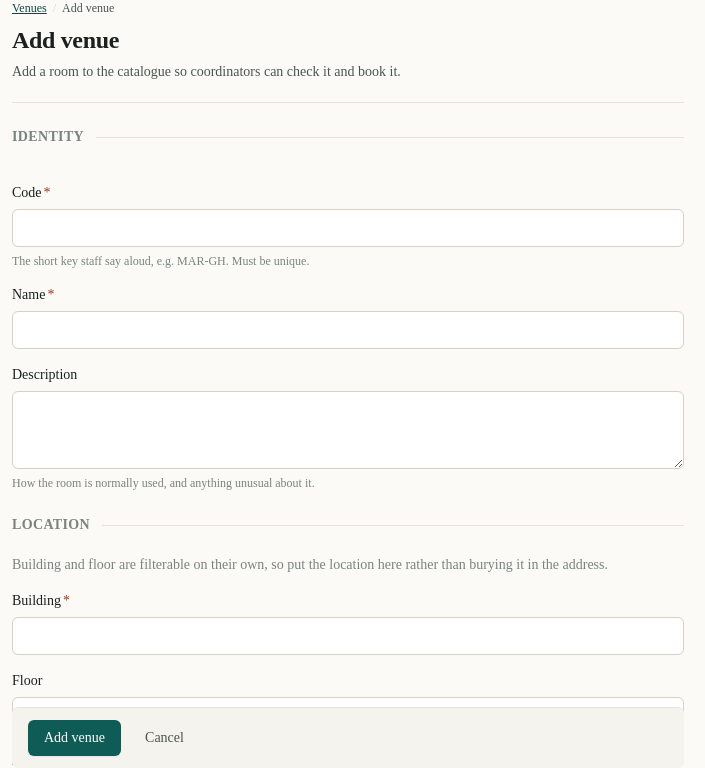
Scenario: Add venue › what it refuses before sending › [SPM-39][AC1] a fractional capacity
Type "HALL-A" into the field labelled "Code*" at (348, 228), box [12,209,684,247]
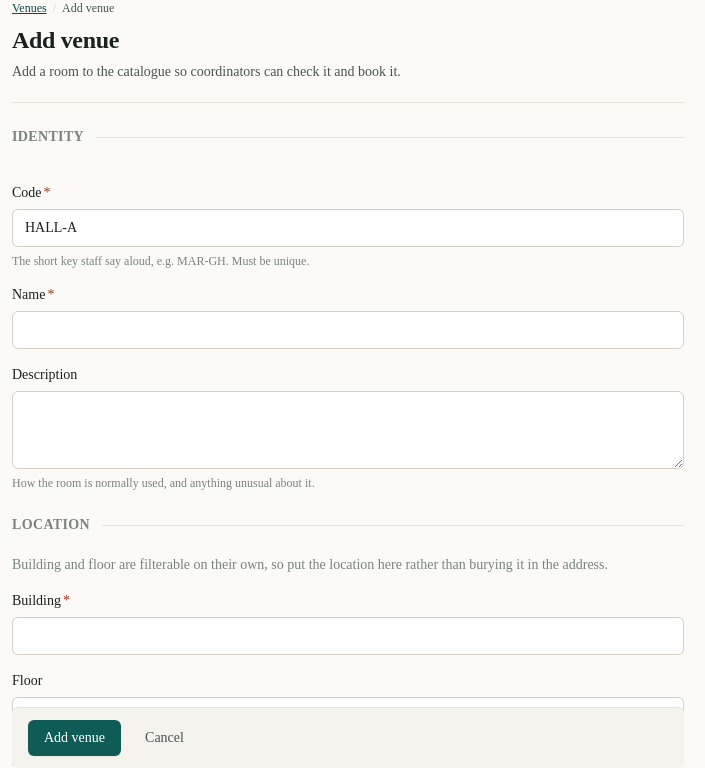
Type "Hall A" into the field labelled "Name*" at (348, 330), box [12,311,684,349]
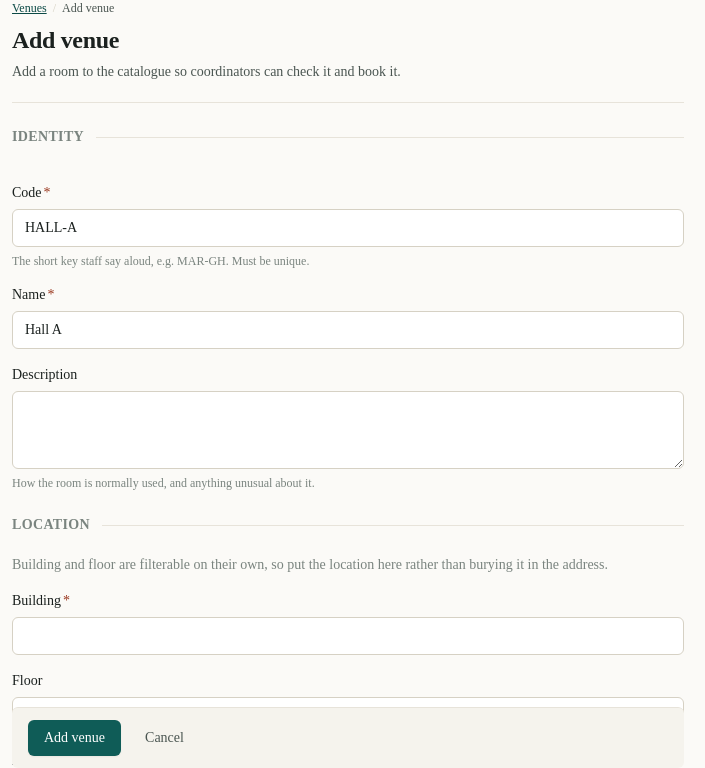
Type "Tower 1" into the field labelled "Building*" at (348, 636), box [12,617,684,655]
(page scrolled)
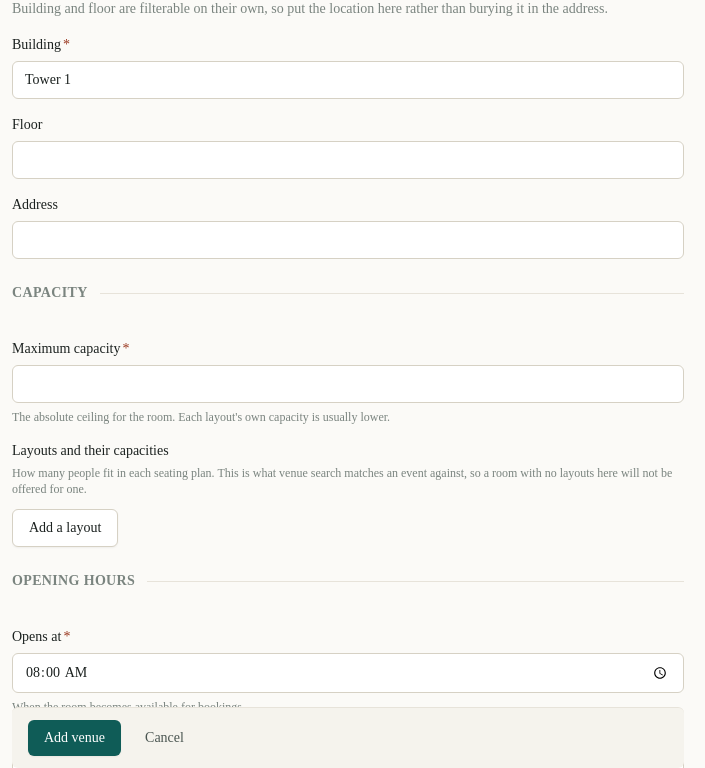
Type "300" into the number field labelled "Maximum capacity*" at (348, 384), box [12,365,684,403]
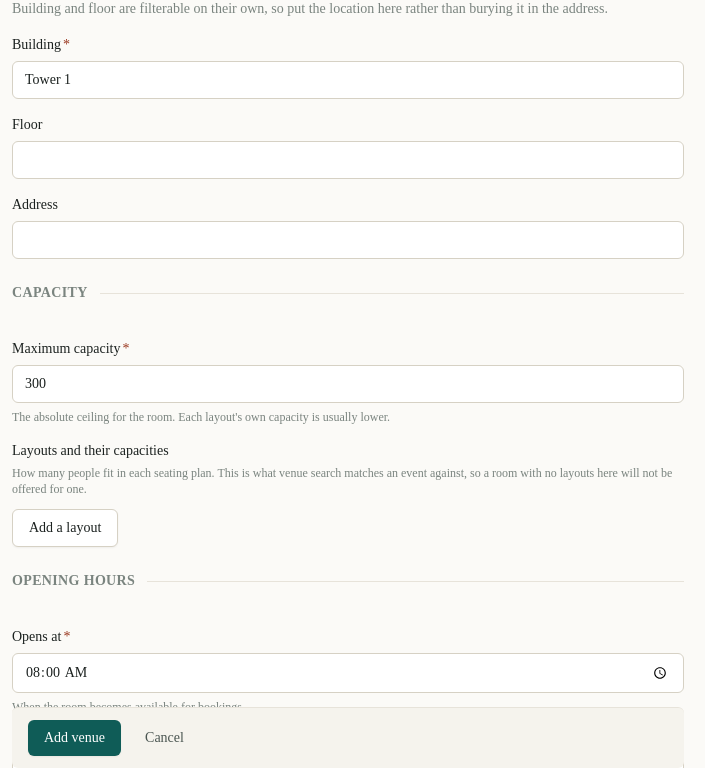
Replace the text in the number field labelled "Maximum capacity*" with "10.5" at (348, 384), box [12,365,684,403]
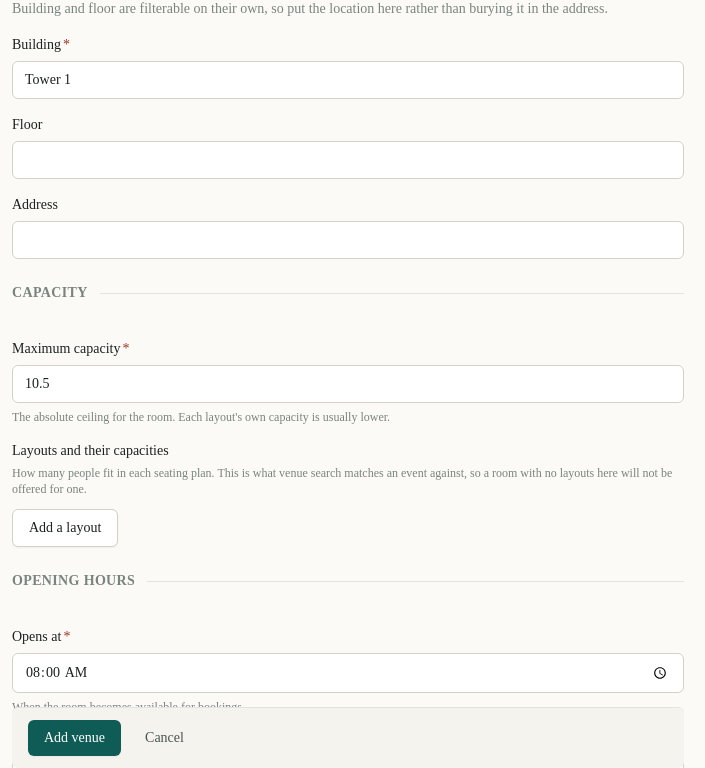
Click the button "Add venue" at (74, 738), box [28,720,121,756]
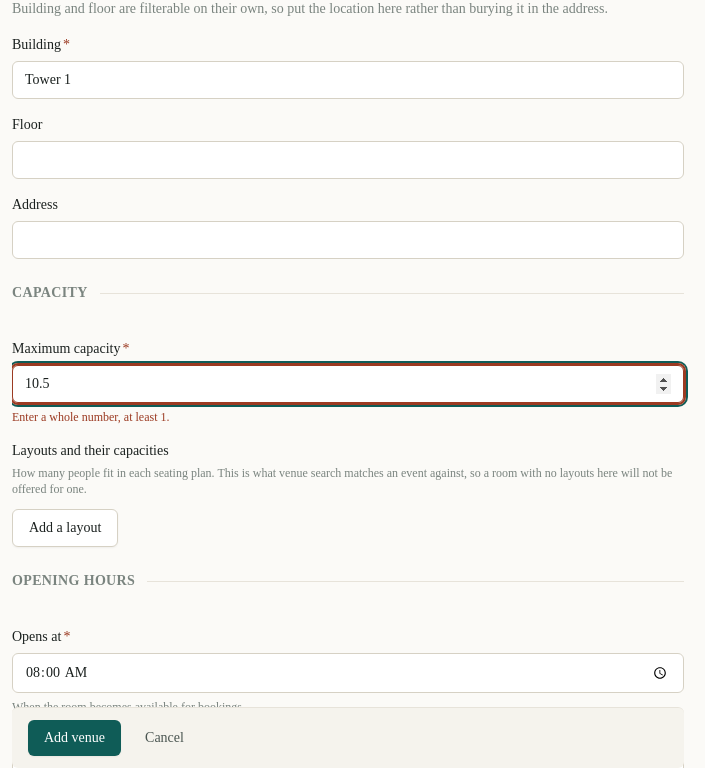
Result: the text "Enter a whole number, at least 1." is shown at [12,410,170,424]
